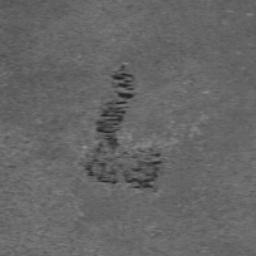Secondary rust skin: (83, 71, 164, 190)
